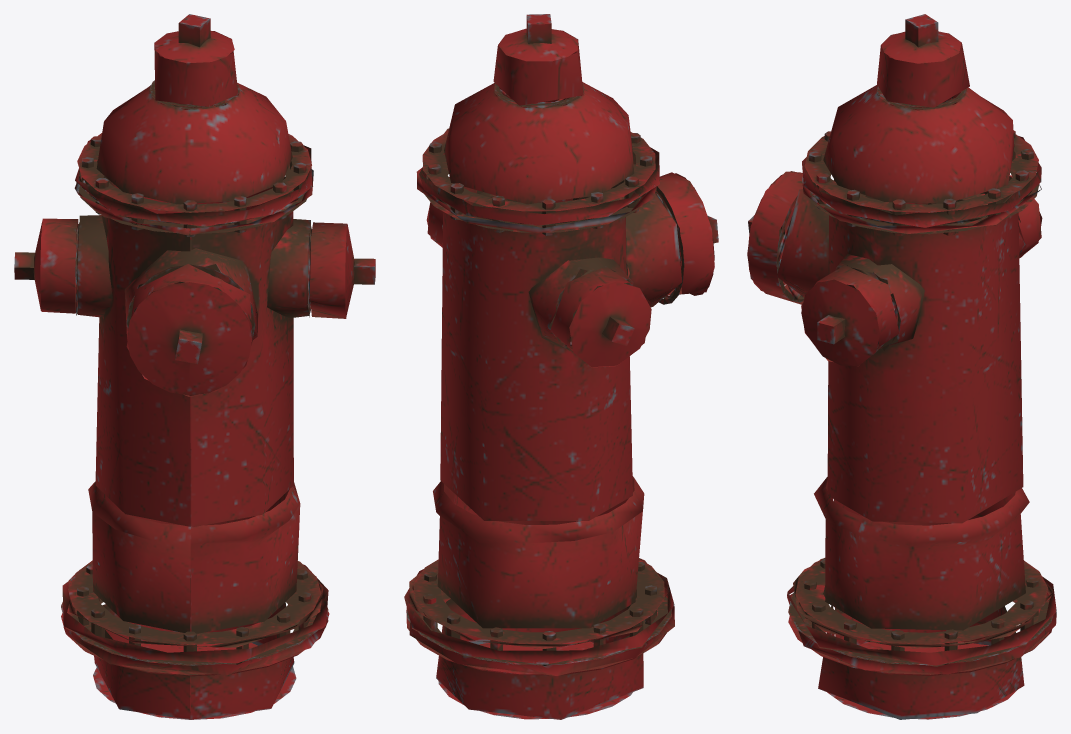
File: fire_hydrant.glb
3 renders of one model, left to right at view 1: azimuth 30°, elevation 25°; view 2: azimuth 150°, elevation 25°; view 3: azimuth 270°, elevation 25°, orthographic.
Visible parts, largest first — view 1: fire_hydrant; view 2: fire_hydrant; view 3: fire_hydrant.
Boxes of the visible parts, box(x1,y1,x2,y2) form: fire_hydrant: box(14, 14, 375, 719); fire_hydrant: box(404, 14, 718, 719); fire_hydrant: box(747, 14, 1056, 719).
Bounding box in the file's own units: 0.4935 × 1.13 × 0.4818.
1 material, 1 textured.
